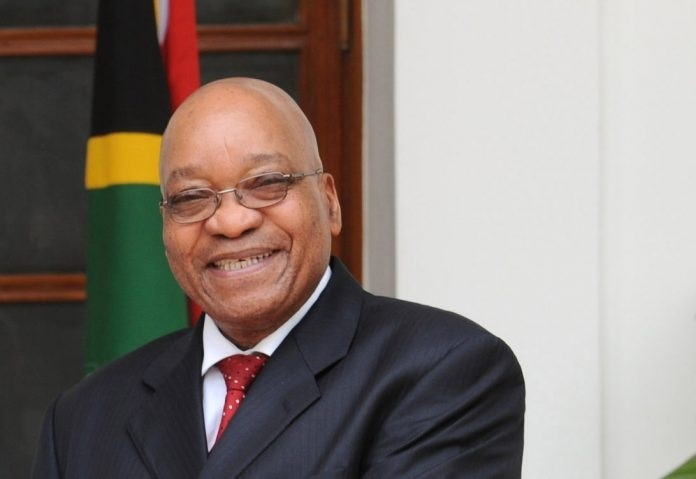face_no_mask: (158, 81, 337, 320)
